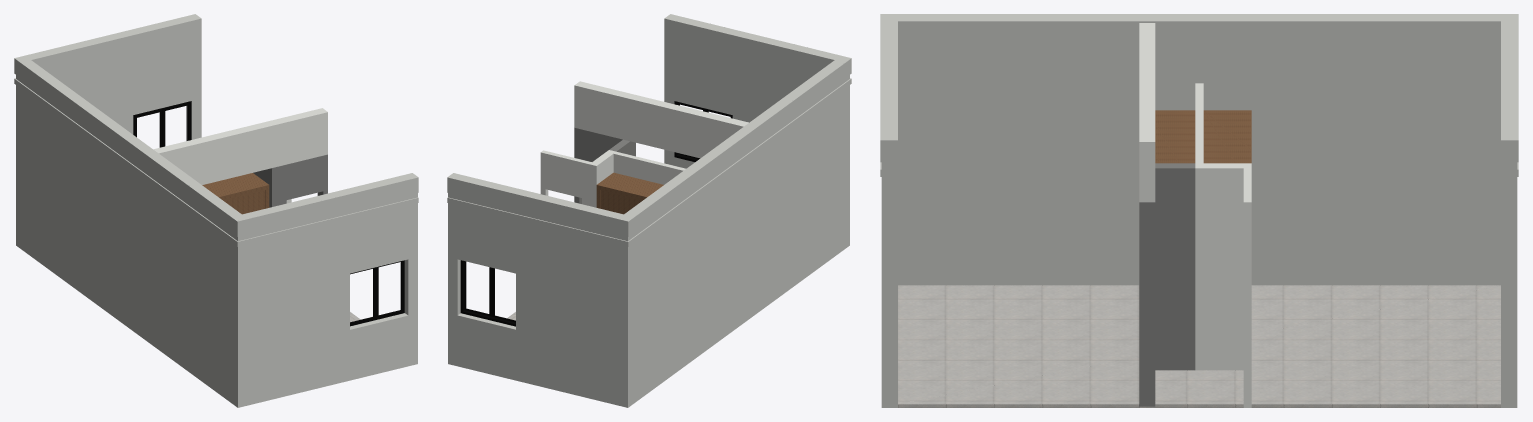
File: CRECER.glb
The picture shows the model from 3 angles, left to right: view 1: azimuth 30°, elevation 25°; view 2: azimuth 150°, elevation 25°; view 3: azimuth 270°, elevation 25°; orthographic projection. The views are drawn at different scales.
Visible parts, largest first — view 1: Diferencia, group_2; view 2: Diferencia, group_2; view 3: Diferencia, group_1, group_2.
Part boxes in pixels (x1=…): Diferencia: x1=14, y1=14, x2=418, y2=407; group_2: x1=202, y1=173, x2=269, y2=214; Diferencia: x1=447, y1=14, x2=851, y2=407; group_2: x1=596, y1=172, x2=663, y2=214; Diferencia: x1=880, y1=14, x2=1518, y2=407; group_1: x1=898, y1=285, x2=1500, y2=407; group_2: x1=1155, y1=110, x2=1251, y2=163.
Bounding box in the file's own units: 3.72 × 3.67 × 7.94.
5 materials, 5 textured.
